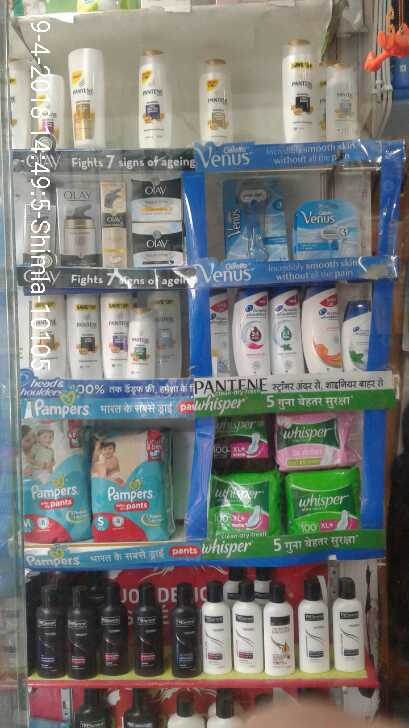venus: (223, 177, 288, 260), (292, 198, 361, 256)
